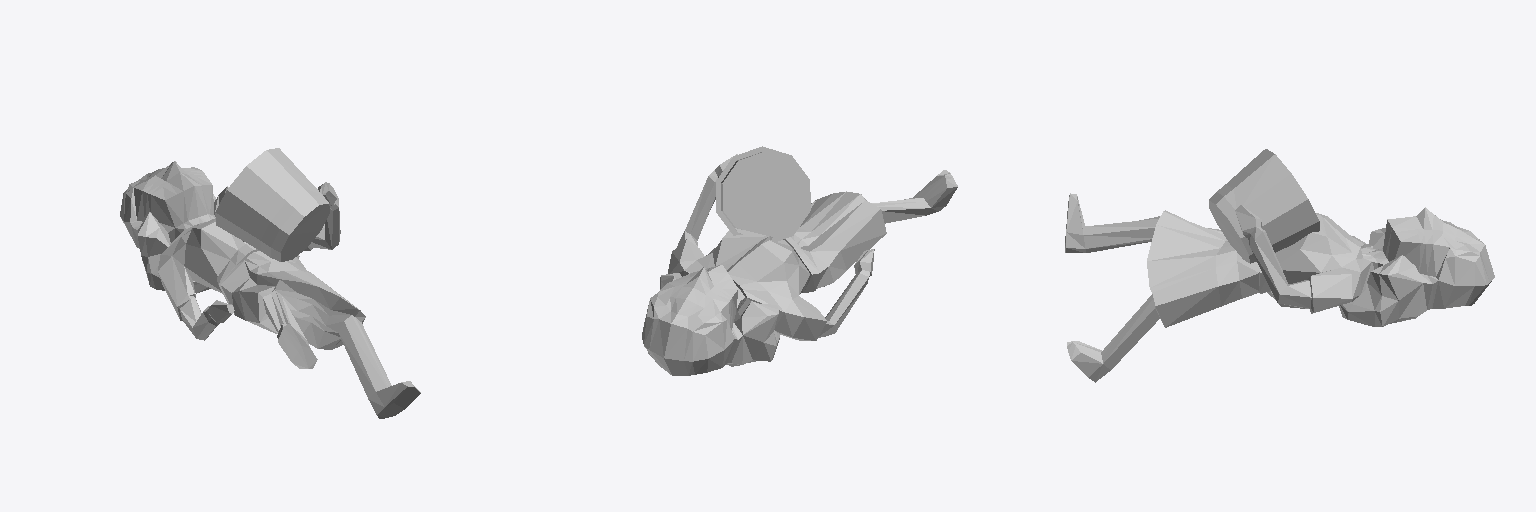
The model's file is Walk_Aldeana_8.obj.
The picture shows the model from 3 angles: view 1: azimuth 30°, elevation 25°; view 2: azimuth 150°, elevation 25°; view 3: azimuth 270°, elevation 25°; orthographic projection.
Visible parts, largest first — view 1: Aldeana.001; view 2: Aldeana.001; view 3: Aldeana.001.
Boxes of the visible parts, x1,y1,x2,y2 form: Aldeana.001: [120, 148, 420, 418]; Aldeana.001: [642, 146, 957, 375]; Aldeana.001: [1065, 149, 1494, 382].
Bounding box in the file's own units: 1.08 × 1.3 × 2.39.